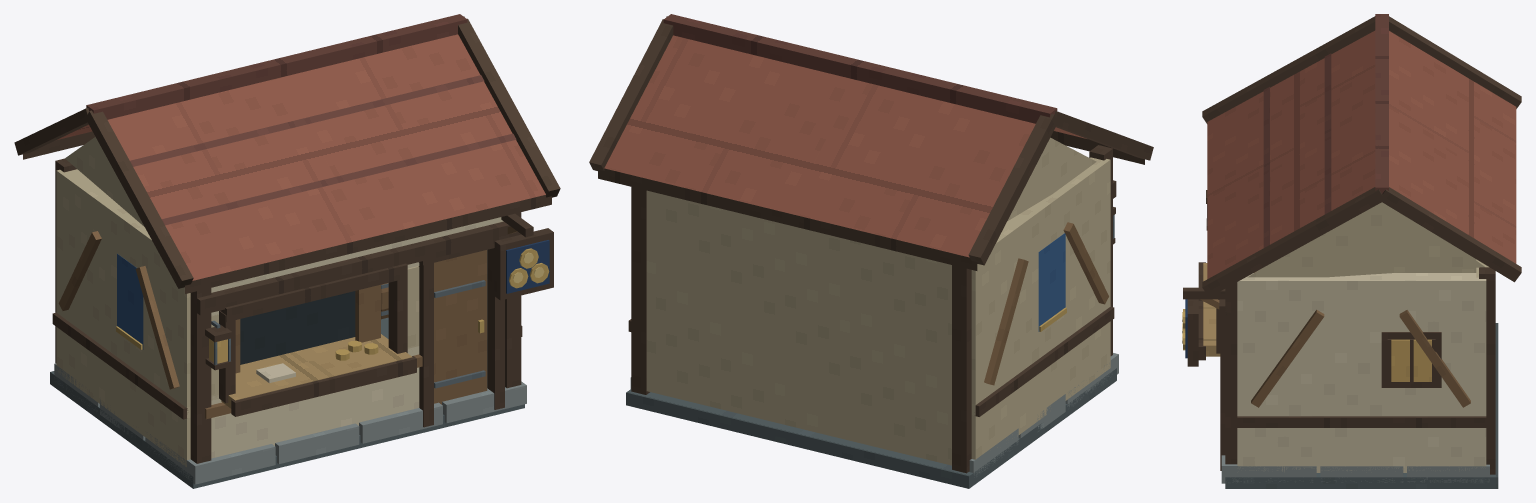
File: bank.glb
3 renders of one model, left to right at view 1: azimuth 30°, elevation 25°; view 2: azimuth 150°, elevation 25°; view 3: azimuth 270°, elevation 25°, orthographic. The views are drawn at different scales.
Parts seen in each view (by area): view 1: front-roof-pitch.001, front-roof-pitch, side-plaster-wall, service-bay-low-wall, ridge-cap, oak-door-leaf, front-cross-beam, service-hatch-dark-interior, service-counter, gable-front-bargeboard, continuous-foundation, corner-timber (+30 smaller); view 2: back-plaster-wall, rear-roof-pitch.001, rear-roof-pitch, side-plaster-wall, continuous-foundation, ridge-cap, corner-timber.001, corner-timber.003, gable-rear-bargeboard, gable-rear-bargeboard.001, plaster-gable, roof-rear-thickness (+9 smaller); view 3: side-plaster-wall.001, front-roof-pitch, front-roof-pitch.001, rear-roof-pitch, rear-roof-pitch.001, plaster-gable.001, continuous-foundation, gable-front-bargeboard.001, side-timber-rail.001, gable-rear-bargeboard.001, gable-front-bargeboard, ridge-cap (+19 smaller).
Part boxes in pixels (left/top/right/bottom): front-roof-pitch.001: left=281, top=34, right=545, bottom=237; front-roof-pitch: left=107, top=77, right=368, bottom=280; side-plaster-wall: left=56, top=169, right=190, bottom=466; service-bay-low-wall: left=211, top=346, right=419, bottom=458; ridge-cap: left=86, top=14, right=467, bottom=119; oak-door-leaf: left=434, top=250, right=487, bottom=404; front-cross-beam: left=192, top=221, right=521, bottom=315; service-hatch-dark-interior: left=240, top=291, right=355, bottom=364; service-counter: left=221, top=334, right=412, bottom=408; gable-front-bargeboard: left=86, top=110, right=193, bottom=288; continuous-foundation: left=50, top=317, right=524, bottom=488; corner-timber: left=190, top=288, right=211, bottom=463; back-plaster-wall: left=646, top=190, right=951, bottom=465; rear-roof-pitch.001: left=604, top=35, right=856, bottom=212; rear-roof-pitch: left=788, top=80, right=1035, bottom=257; side-plaster-wall: left=971, top=157, right=1110, bottom=459; continuous-foundation: left=626, top=368, right=1116, bottom=488; ridge-cap: left=663, top=14, right=1057, bottom=123; corner-timber.001: left=952, top=265, right=971, bottom=473; corner-timber.003: left=631, top=187, right=649, bottom=394; gable-rear-bargeboard: left=968, top=114, right=1056, bottom=265; gable-rear-bargeboard.001: left=589, top=19, right=673, bottom=170; plaster-gable: left=1007, top=137, right=1096, bottom=221; roof-rear-thickness: left=787, top=213, right=977, bottom=270; side-plaster-wall.001: left=1237, top=273, right=1486, bottom=472; front-roof-pitch: left=1207, top=30, right=1375, bottom=204; front-roof-pitch.001: left=1207, top=113, right=1375, bottom=278; rear-roof-pitch: left=1389, top=31, right=1516, bottom=188; rear-roof-pitch.001: left=1389, top=113, right=1516, bottom=263; plaster-gable.001: left=1248, top=202, right=1484, bottom=277; continuous-foundation: left=1225, top=323, right=1498, bottom=488; gable-front-bargeboard.001: left=1202, top=187, right=1384, bottom=297; side-timber-rail.001: left=1237, top=416, right=1486, bottom=427; gable-rear-bargeboard.001: left=1379, top=187, right=1521, bottom=282; gable-front-bargeboard: left=1202, top=16, right=1375, bottom=123; ridge-cap: left=1375, top=14, right=1388, bottom=193.
Size of the model in its own units: 4.52 by 3.72 by 3.68.
1 material, 1 textured.
